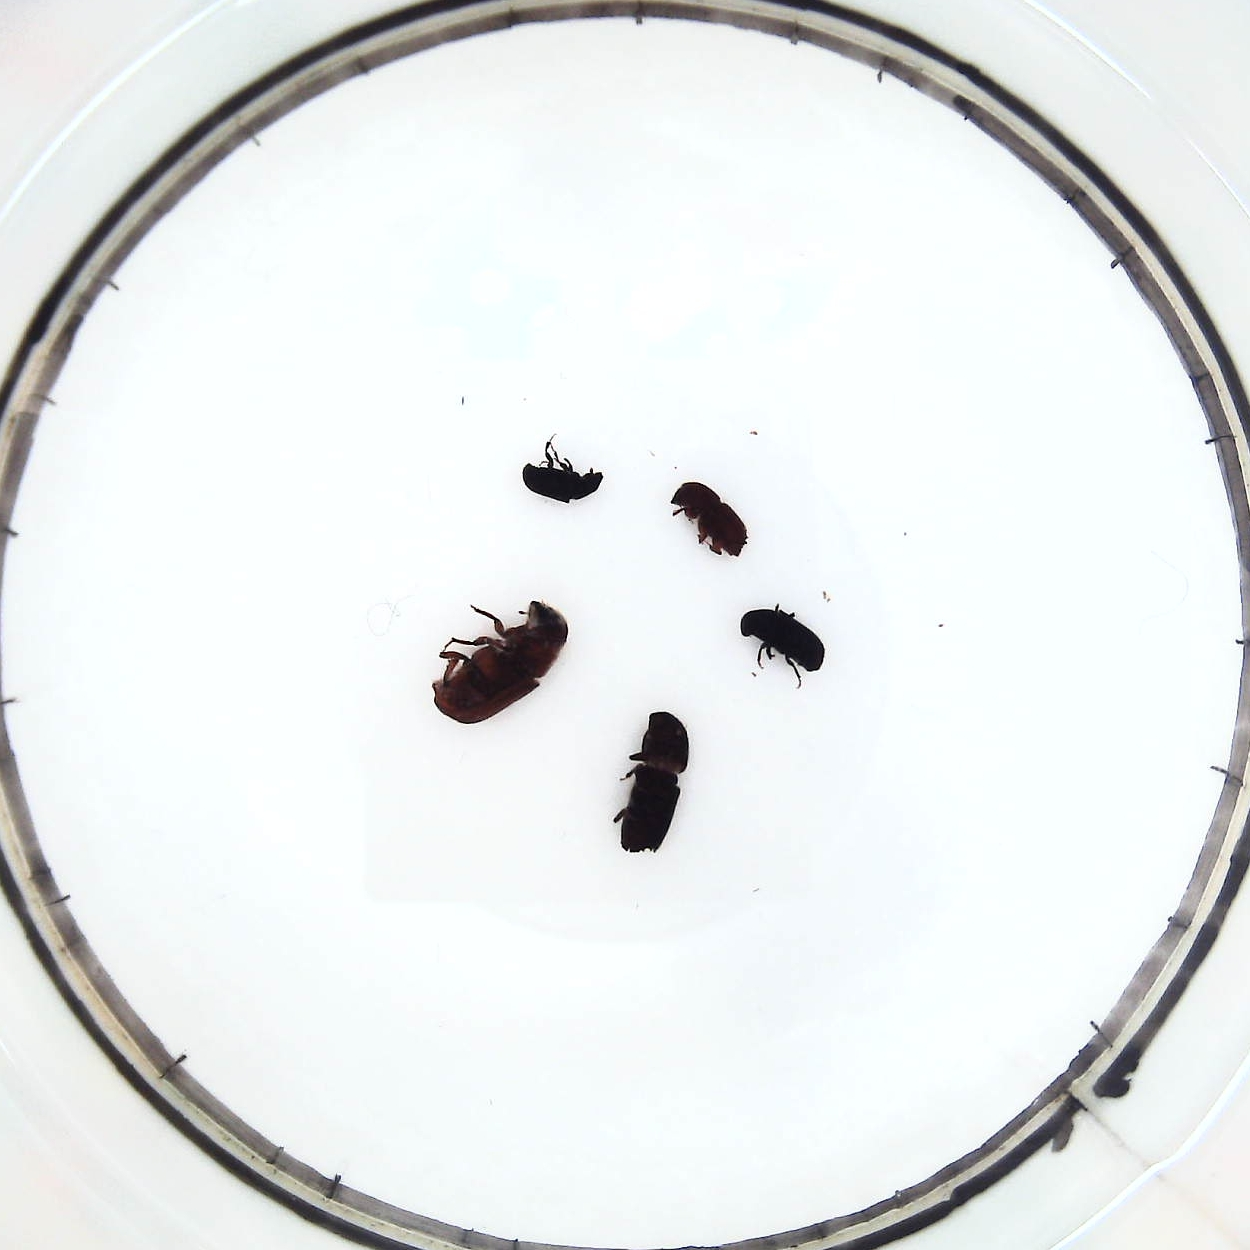Boerner: (612, 707, 695, 856)
Leconte: (429, 593, 570, 727)
armandi: (734, 600, 829, 693)
coleoptera: (519, 434, 603, 505)
linnaeus: (665, 473, 753, 563)
